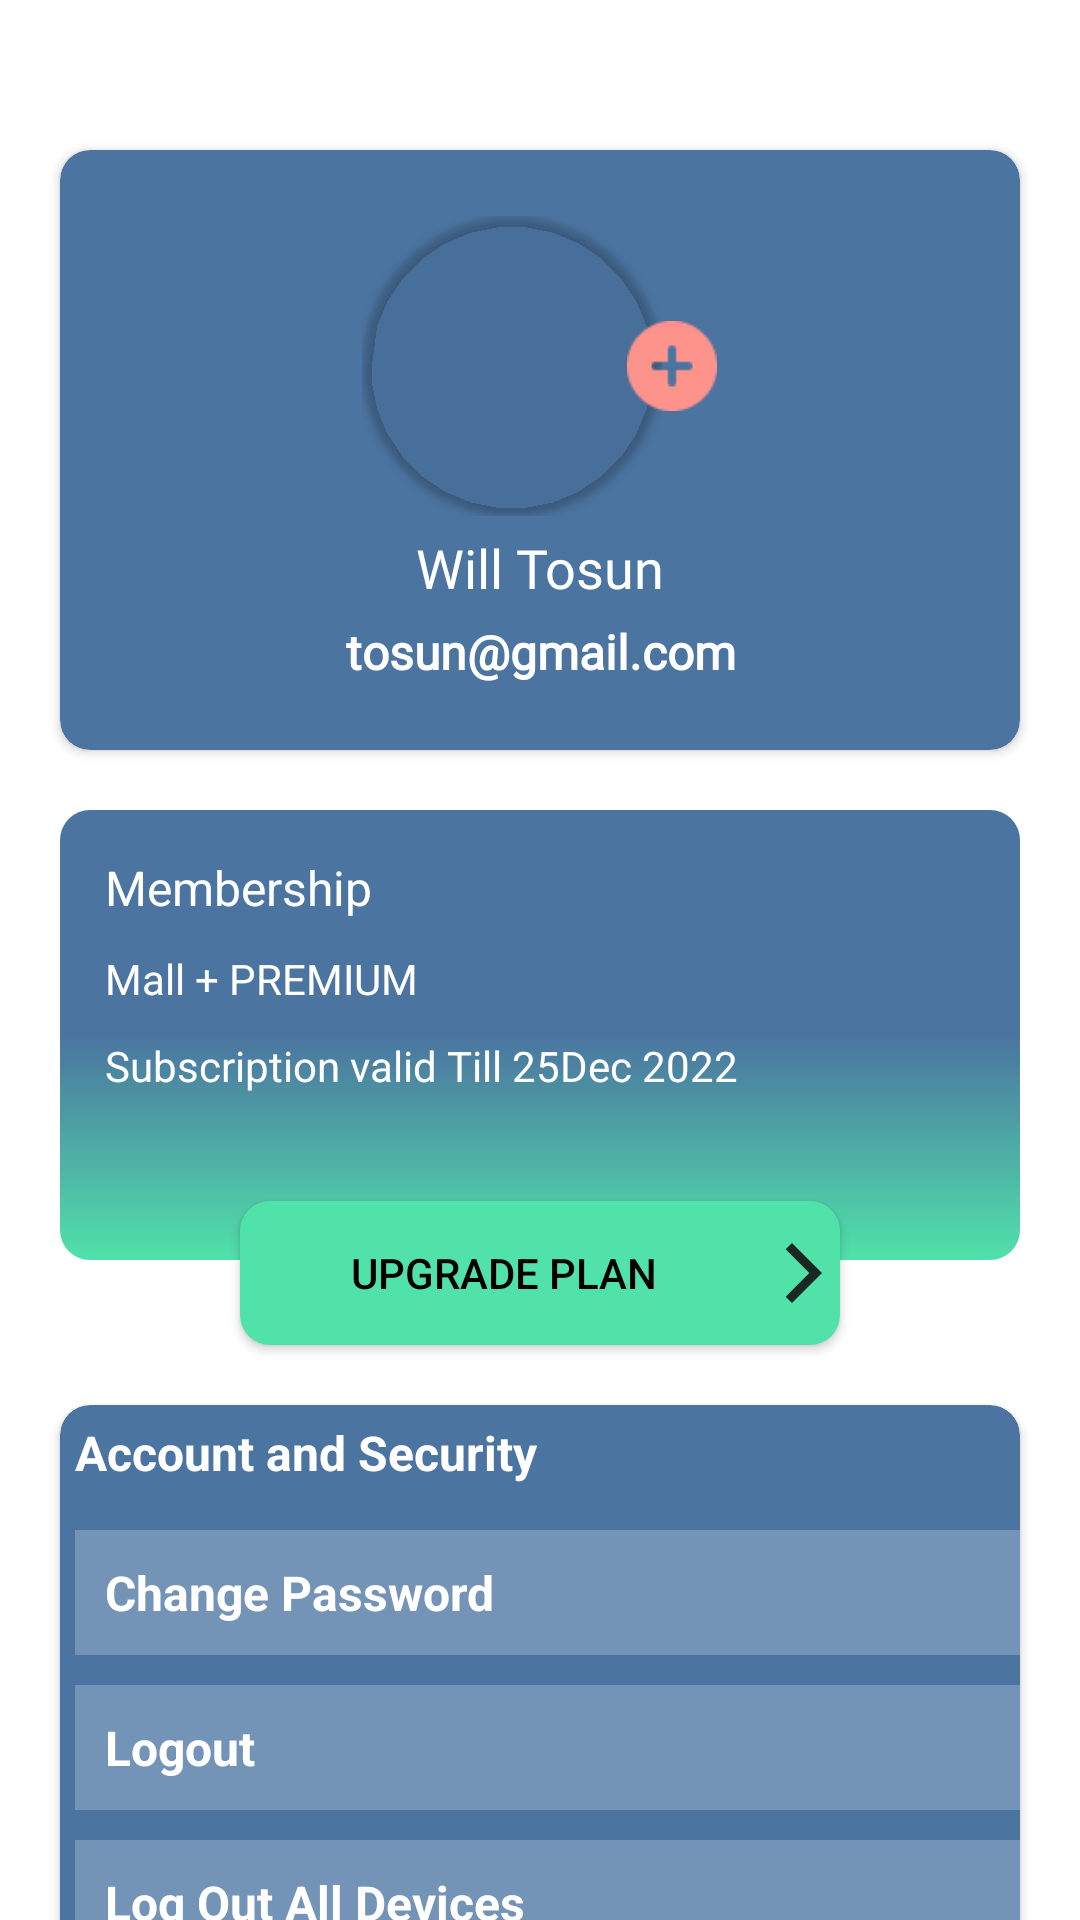

Icon click points for this 1080×1920 phone screenshot, format [x,y]:
addimage: [672,366]
